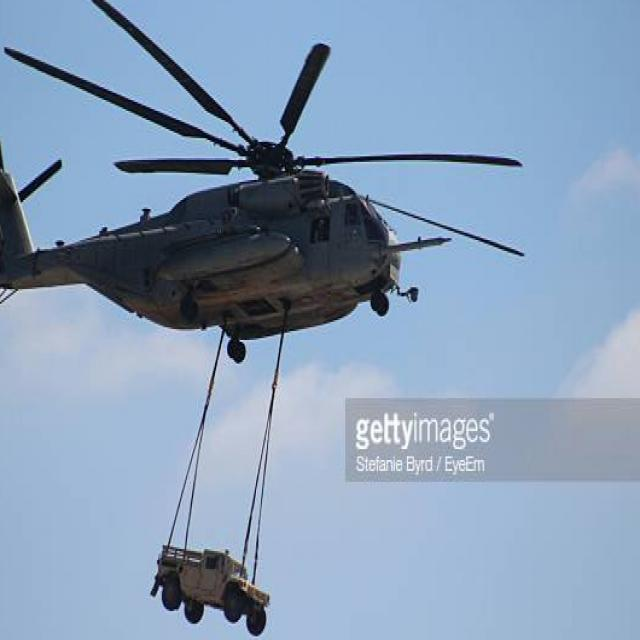helicopter: (1, 1, 541, 376)
